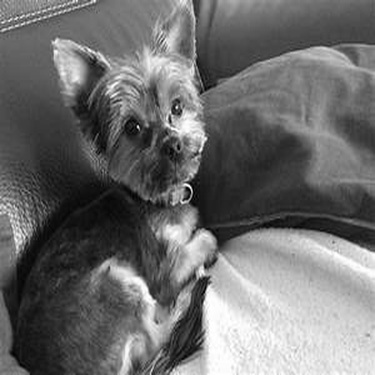dog: (3, 1, 223, 373)
